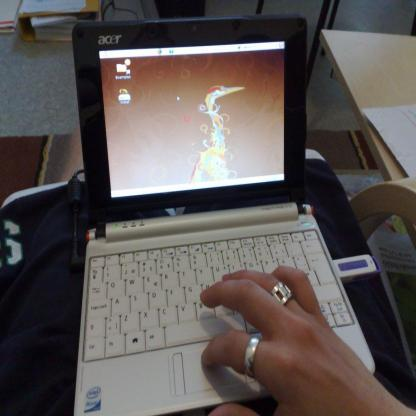board: (69, 16, 376, 415)
